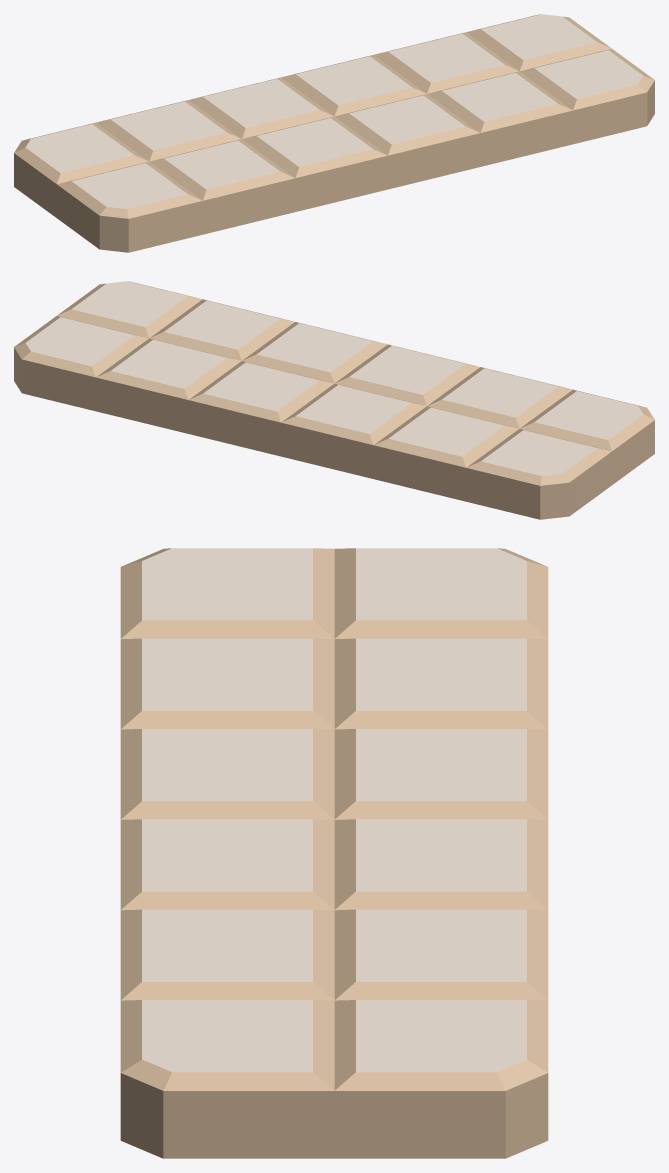
Rendered from Puzzle_Sliding_Platform_1x3.obj.
3 views of the same model, one above another, from view 1: azimuth 30°, elevation 25°; view 2: azimuth 150°, elevation 25°; view 3: azimuth 270°, elevation 25° (orthographic). The views are drawn at different scales.
Parts seen in each view (by area): view 1: object1; view 2: object1; view 3: object1.
Boxes of the visible parts, left/top/right/bottom form: object1: left=14, top=14, right=654, bottom=252; object1: left=14, top=281, right=654, bottom=519; object1: left=120, top=548, right=548, bottom=1158.
Bounding box in the file's own units: 3 × 0.3 × 1.
